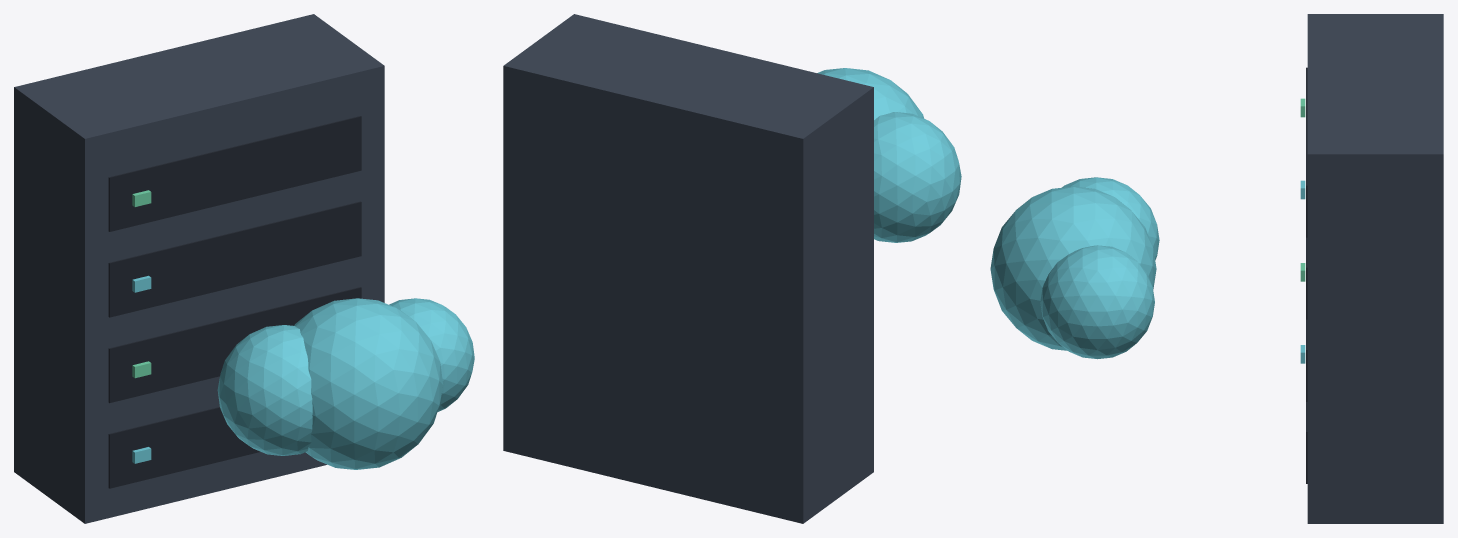
File: server.glb
3 views of the same model, side by side, from view 1: azimuth 30°, elevation 25°; view 2: azimuth 150°, elevation 25°; view 3: azimuth 270°, elevation 25° (orthographic). The views are drawn at different scales.
Visible parts, largest first — view 1: rack, cloud1, server1, server0, cloud0, server2, server3, cloud2; view 2: rack, cloud0, cloud1; view 3: rack, cloud1, cloud2, cloud0.
Boxes of the visible parts, left/top/right/bottom form: rack: left=14, top=14, right=384, bottom=523; cloud1: left=294, top=298, right=443, bottom=469; server1: left=108, top=201, right=361, bottom=317; server0: left=108, top=116, right=361, bottom=231; cloud0: left=217, top=325, right=312, bottom=455; server2: left=108, top=287, right=361, bottom=403; server3: left=108, top=407, right=260, bottom=488; cloud2: left=389, top=298, right=474, bottom=411; rack: left=503, top=14, right=873, bottom=523; cloud0: left=874, top=112, right=961, bottom=242; cloud1: left=817, top=68, right=924, bottom=119; rack: left=1307, top=14, right=1443, bottom=523; cloud1: left=990, top=186, right=1156, bottom=350; cloud2: left=1040, top=245, right=1154, bottom=359; cloud0: left=1062, top=177, right=1159, bottom=259.
Size of the model in its own units: 2.2 by 2.7 by 3.
